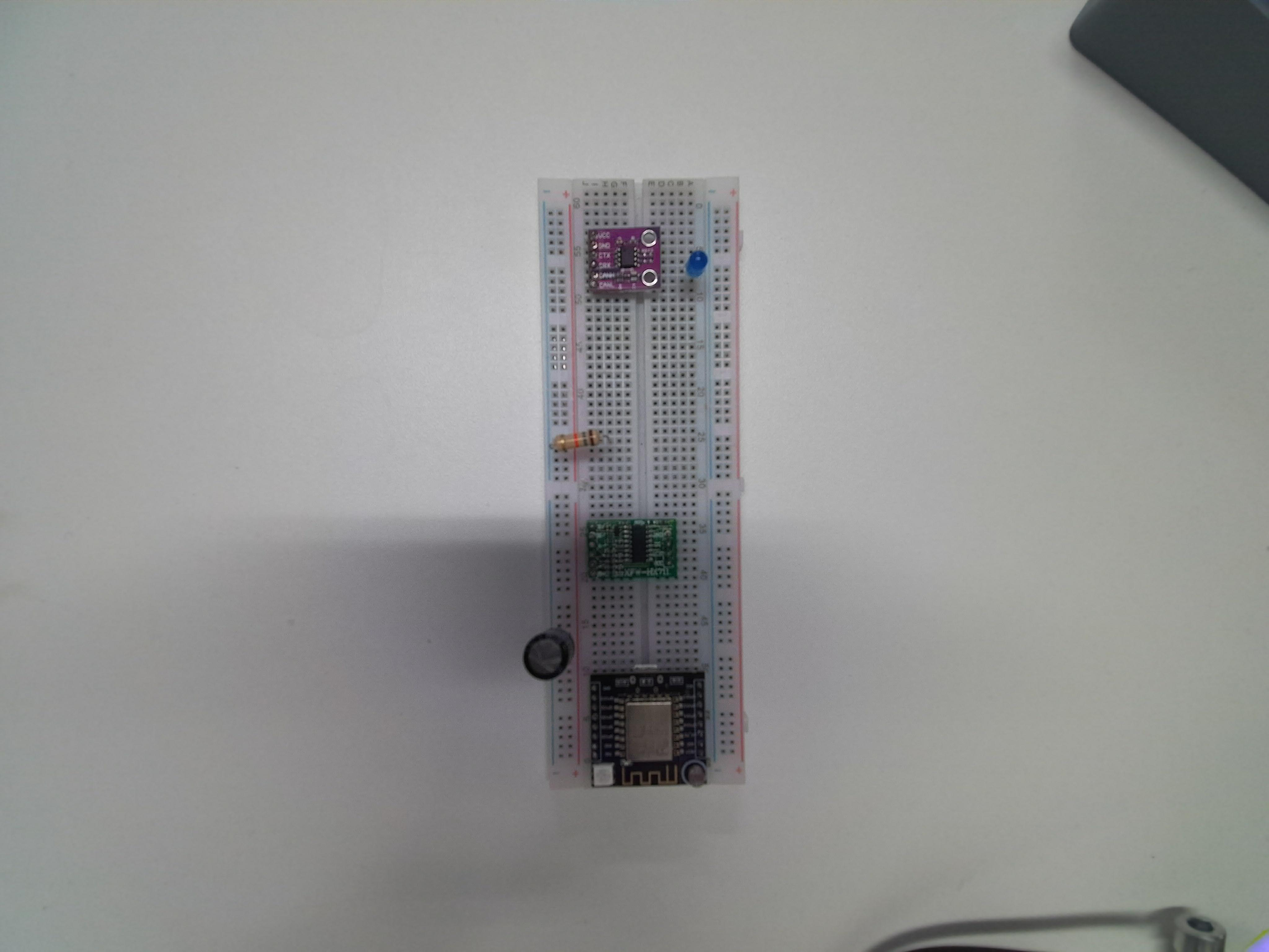base: (524, 177, 747, 794)
blue-led: (682, 242, 708, 283)
capacitor: (520, 629, 576, 683)
esp: (587, 670, 712, 792)
green-board: (584, 516, 680, 584)
purple-board: (587, 224, 663, 298)
resistor-big: (548, 428, 603, 456)
